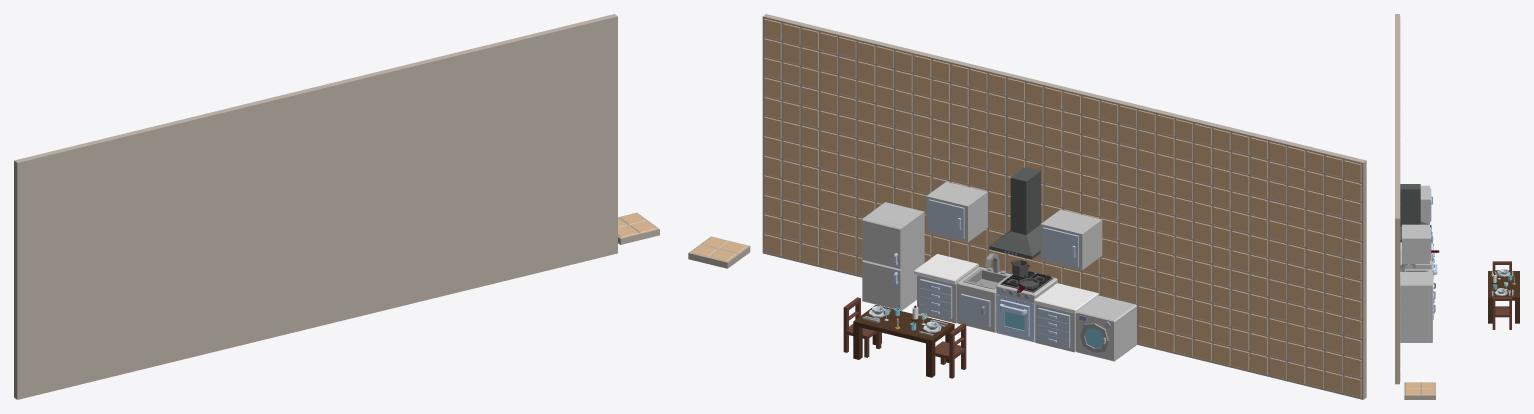
The model's file is kitchen.glb.
3 renders of one model, left to right at view 1: azimuth 30°, elevation 25°; view 2: azimuth 150°, elevation 25°; view 3: azimuth 270°, elevation 25°, orthographic. The views are drawn at different scales.
Visible parts, largest first — view 1: GroundTile_41, GroundTile.001_84; view 2: GroundTile_41, CampanaCocina_50, Lavadora_17, Table_36, FrigorificoBody_22, Estanteria.001_83, Estanteria_80, PuertaFrigo_21, PuertaCongelador_19, GroundTile.001_84, Tablero_56, Tablero.001_62 (+8 smaller); view 3: GroundTile_41, FrigorificoBody_22, Estanteria_80, CampanaCocina_50, Table_36, GroundTile.001_84, Cube.004_76, Estanteria.001_83, PuertaFrigo_21, Fogones_34, PuertaCongelador_19, Cube.005_77.
Boxes of the visible parts, x1,y1,x2,y2 form: GroundTile_41: (14, 14, 617, 399); GroundTile.001_84: (618, 212, 659, 244); GroundTile_41: (762, 14, 1366, 399); CampanaCocina_50: (989, 167, 1040, 259); Lavadora_17: (1076, 295, 1136, 361); Table_36: (853, 305, 954, 377); FrigorificoBody_22: (865, 202, 924, 308); Estanteria.001_83: (1040, 209, 1102, 270); Estanteria_80: (926, 181, 987, 242); PuertaFrigo_21: (862, 217, 904, 269); PuertaCongelador_19: (862, 260, 904, 310); GroundTile.001_84: (688, 236, 750, 268); Tablero_56: (1034, 283, 1098, 313); Tablero.001_62: (914, 254, 978, 284); GroundTile_41: (1395, 14, 1400, 384); FrigorificoBody_22: (1400, 272, 1428, 342); Estanteria_80: (1402, 224, 1429, 263); CampanaCocina_50: (1400, 184, 1431, 242); Table_36: (1488, 271, 1519, 323); GroundTile.001_84: (1404, 382, 1435, 399); Cube.004_76: (1492, 297, 1511, 329); Estanteria.001_83: (1420, 185, 1429, 224); PuertaFrigo_21: (1428, 272, 1432, 314); Fogones_34: (1400, 250, 1431, 269); PuertaCongelador_19: (1428, 314, 1432, 342); Cube.005_77: (1492, 261, 1511, 270).
Size of what is drawn, in the model's own units: 32.96 by 11.54 by 7.86.
